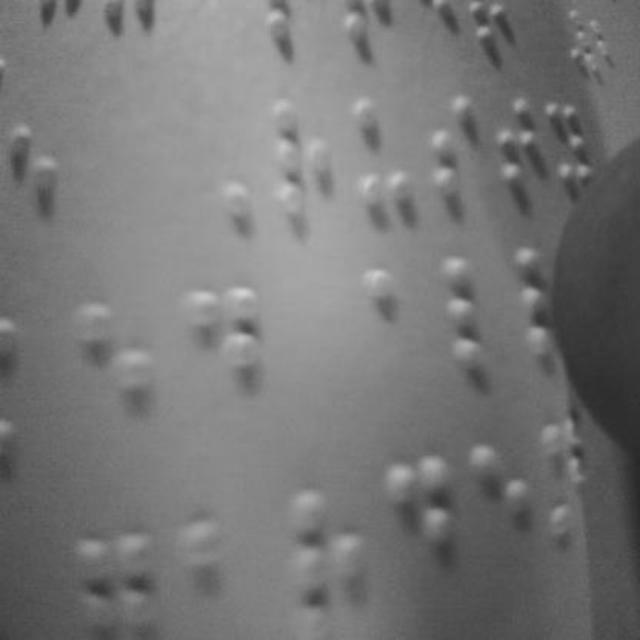braiile: (286, 474, 370, 640), (378, 447, 458, 607), (74, 302, 156, 452), (182, 272, 260, 428), (466, 434, 536, 592), (180, 502, 250, 640), (440, 254, 514, 382), (345, 93, 415, 217), (362, 255, 428, 385), (269, 98, 335, 225), (427, 82, 487, 208)
